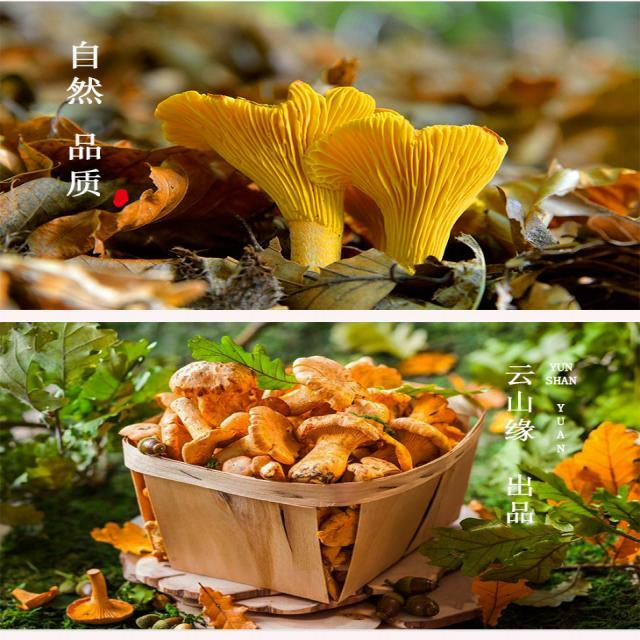Cantharellus cibarius: (157, 84, 501, 262), (148, 357, 462, 473)
